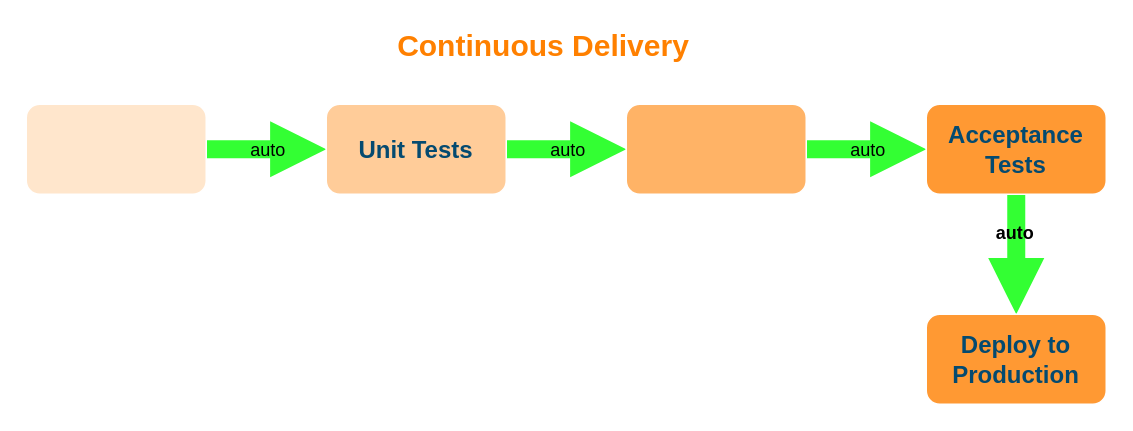
This 1133x431 diagram has some shape labels left out. Here are the shapes that lost their labels. From the top down, the centre of each, then its label:
At point 115,148: "Build".
At point 715,148: "Deploy to stage".
